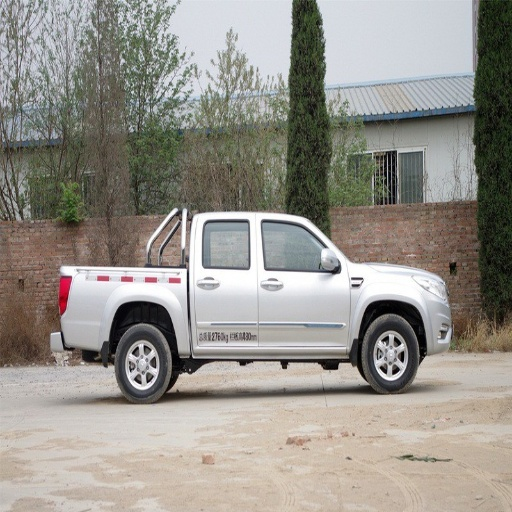back_right_door: (193, 217, 258, 346)
front_right_door: (259, 218, 350, 345)
trunk: (60, 268, 191, 353)
